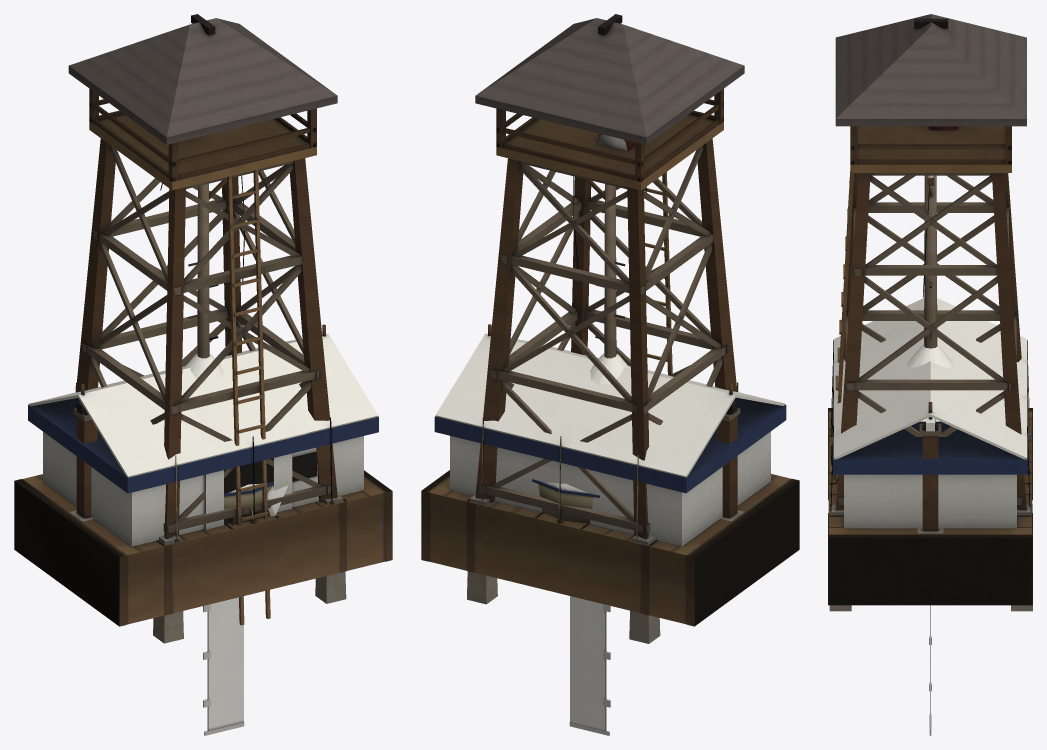
File: akitsu.glb
The picture shows the model from 3 angles, left to right: view 1: azimuth 30°, elevation 25°; view 2: azimuth 150°, elevation 25°; view 3: azimuth 270°, elevation 25°; orthographic projection. The views are drawn at different scales.
Visible parts, largest first — view 1: watchtower_LOD0, tent_officer_LOD0, tent_bell_LOD0, banner_tall_cloth_LOD0, telegraph_pole_LOD0, gate_bar_LOD0; view 2: watchtower_LOD0, tent_officer_LOD0, tent_bell_LOD0, banner_tall_cloth_LOD0, telegraph_pole_LOD0, gate_bar_LOD0; view 3: watchtower_LOD0, tent_officer_LOD0, telegraph_pole_LOD0, gate_bar_LOD0, tent_bell_LOD0.
Boxes of the visible parts, x1,y1,x2,y2 form: watchtower_LOD0: [68, 14, 346, 643]; tent_officer_LOD0: [14, 324, 392, 626]; tent_bell_LOD0: [164, 354, 346, 615]; banner_tall_cloth_LOD0: [203, 596, 244, 735]; telegraph_pole_LOD0: [160, 175, 244, 358]; gate_bar_LOD0: [70, 401, 97, 521]; watchtower_LOD0: [467, 14, 744, 643]; tent_officer_LOD0: [421, 324, 799, 626]; tent_bell_LOD0: [466, 353, 649, 615]; banner_tall_cloth_LOD0: [569, 596, 610, 735]; telegraph_pole_LOD0: [573, 176, 646, 358]; gate_bar_LOD0: [716, 401, 743, 521]; watchtower_LOD0: [829, 14, 1032, 611]; tent_officer_LOD0: [828, 298, 1032, 605]; telegraph_pole_LOD0: [923, 175, 937, 348]; gate_bar_LOD0: [917, 418, 943, 533]; tent_bell_LOD0: [828, 344, 1032, 534].
Size of what is drawn, in the model's own units: 6 by 15 by 4.
Materials: 2 (2 with a texture image).
